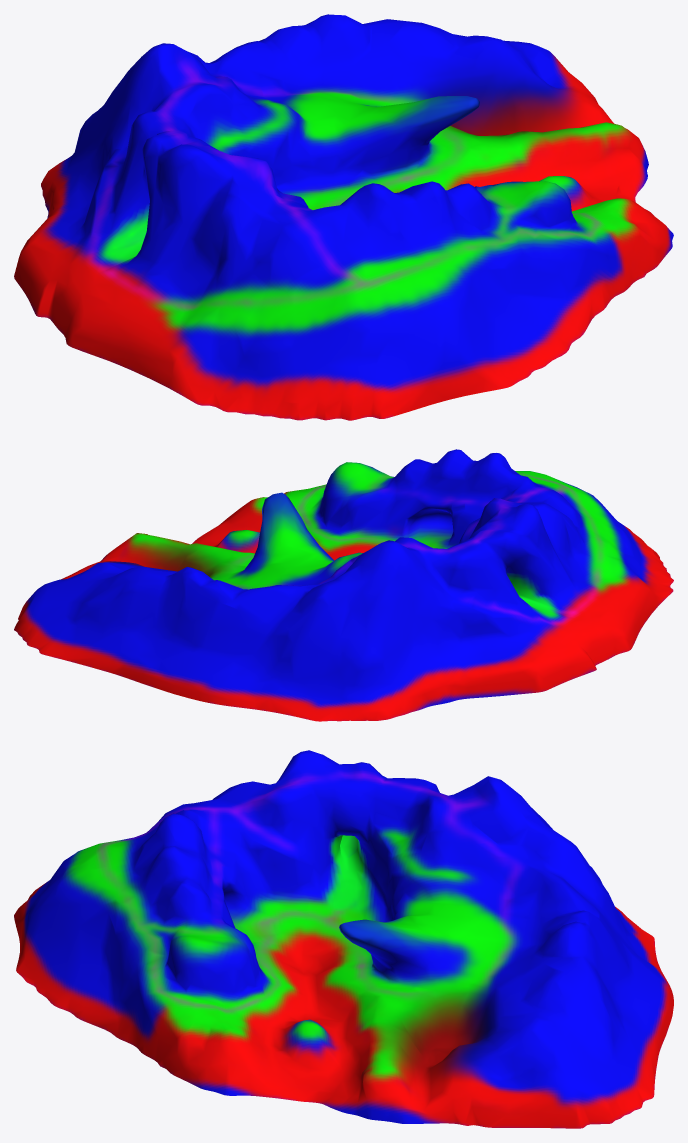
The model's file is LowPolyTerrain.dae.
3 views of the same model, one above another, from view 1: azimuth 30°, elevation 25°; view 2: azimuth 150°, elevation 25°; view 3: azimuth 270°, elevation 25° (orthographic). The views are drawn at different scales.
Parts seen in each view (by area): view 1: IslandTerrain; view 2: IslandTerrain; view 3: IslandTerrain.
Part boxes in pixels (x1,y1,x2,y2): IslandTerrain: (14, 14, 673, 420); IslandTerrain: (14, 449, 673, 721); IslandTerrain: (14, 750, 673, 1128).
Size of the model in its own units: 1086 by 282 by 1062.
